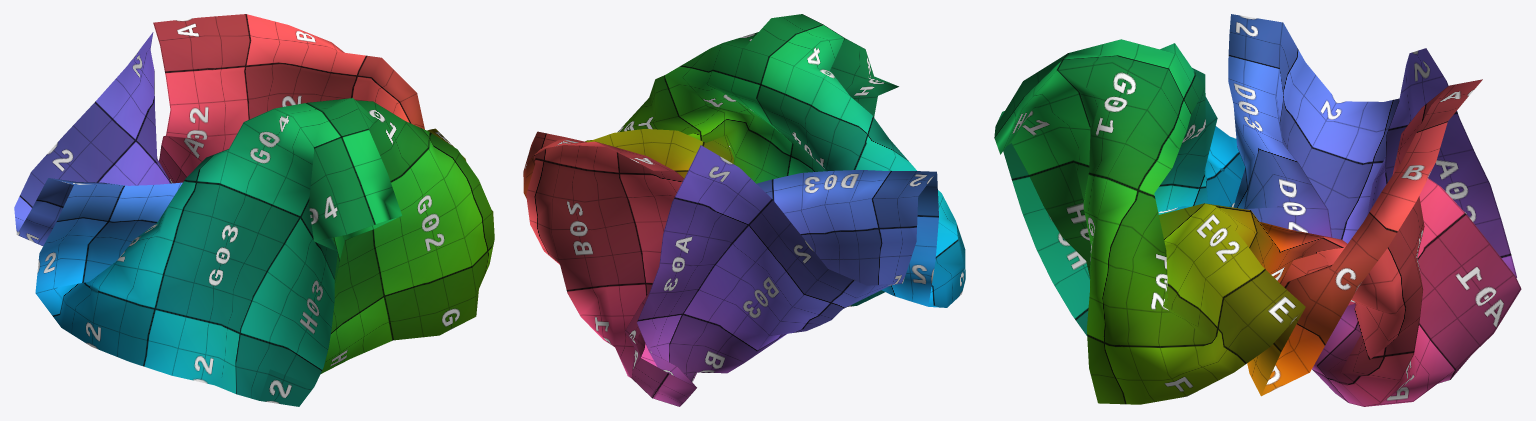
Rendered from CrmbledPaperA4.fbx.
The picture shows the model from 3 angles, left to right: view 1: azimuth 30°, elevation 25°; view 2: azimuth 150°, elevation 25°; view 3: azimuth 270°, elevation 25°; orthographic projection. The views are drawn at different scales.
Visible parts, largest first — view 1: CrumbledA4; view 2: CrumbledA4; view 3: CrumbledA4.
Part boxes in pixels (box(x1,y1,x2,y2)): CrumbledA4: box(14, 14, 494, 406); CrumbledA4: box(523, 14, 965, 406); CrumbledA4: box(994, 14, 1521, 406).
Size of the model in its own units: 15.1 by 10.69 by 14.48.
